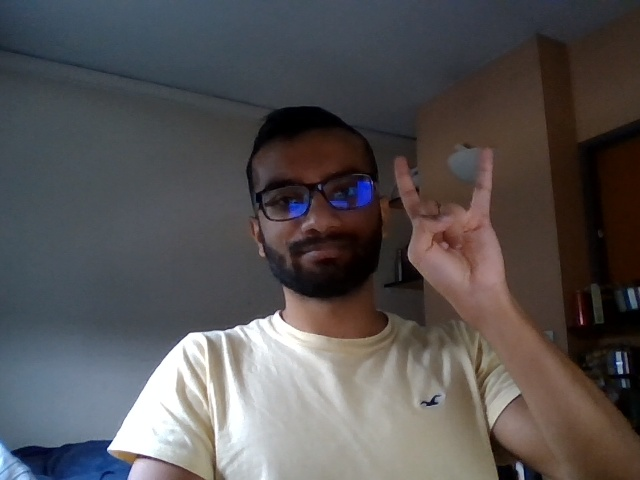I Love You: (384, 142, 525, 297)
